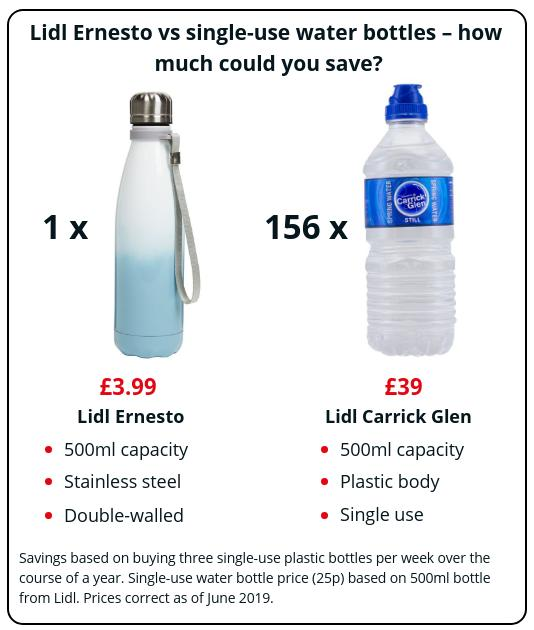plastic_bottle: (360, 77, 471, 364)
